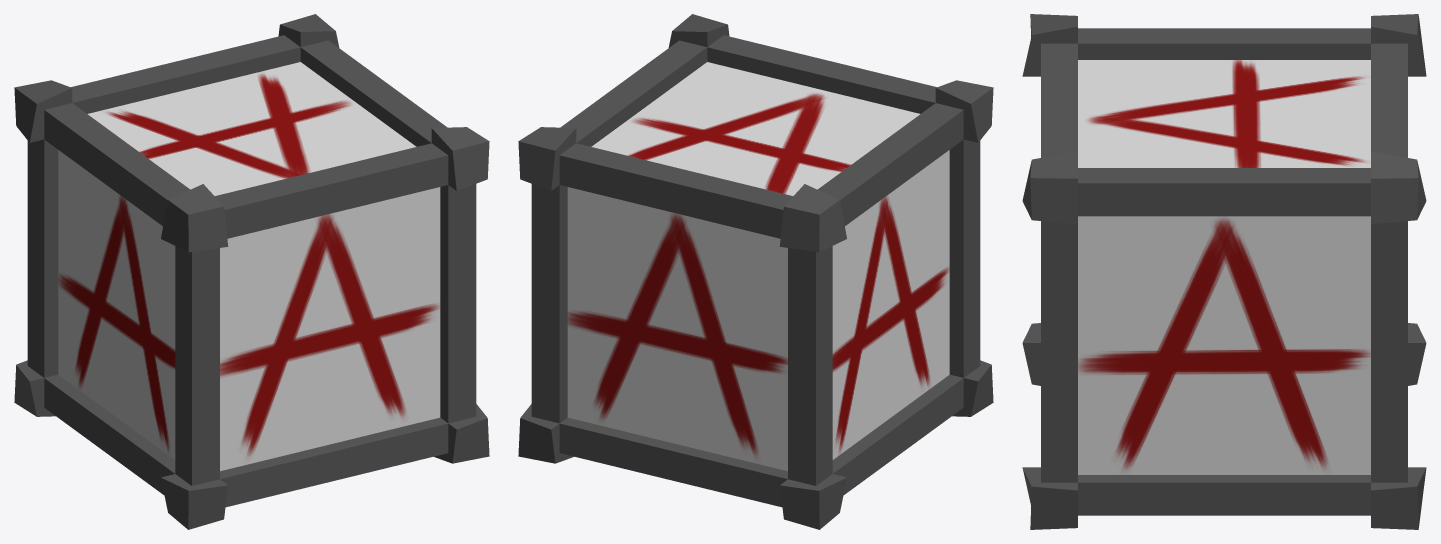
Rendered from ammo_crate.fbx.
3 renders of one model, left to right at view 1: azimuth 30°, elevation 25°; view 2: azimuth 150°, elevation 25°; view 3: azimuth 270°, elevation 25°, orthographic. The views are drawn at different scales.
Visible parts, largest first — view 1: pCube1; view 2: pCube1; view 3: pCube1.
Boxes of the visible parts, x1,y1,x2,y2 form: pCube1: [14, 14, 489, 529]; pCube1: [518, 14, 993, 529]; pCube1: [1022, 14, 1426, 529].
Bounding box in the file's own units: 4.12 × 4.12 × 4.12.
